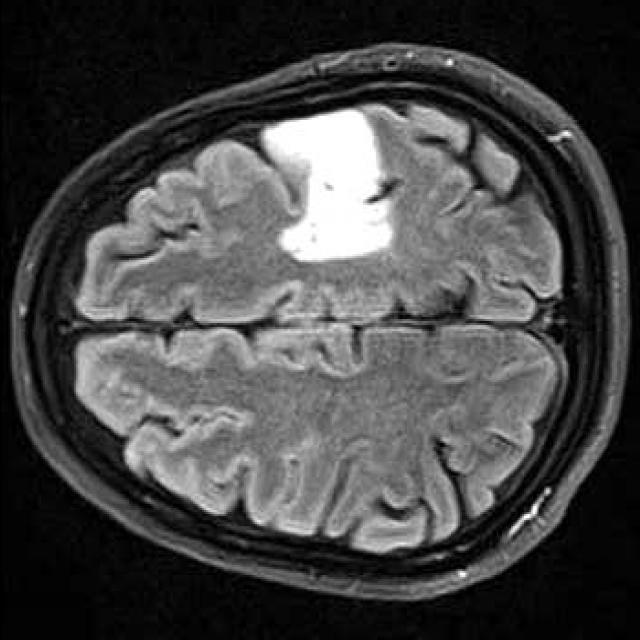tumor: (256, 108, 402, 262)
